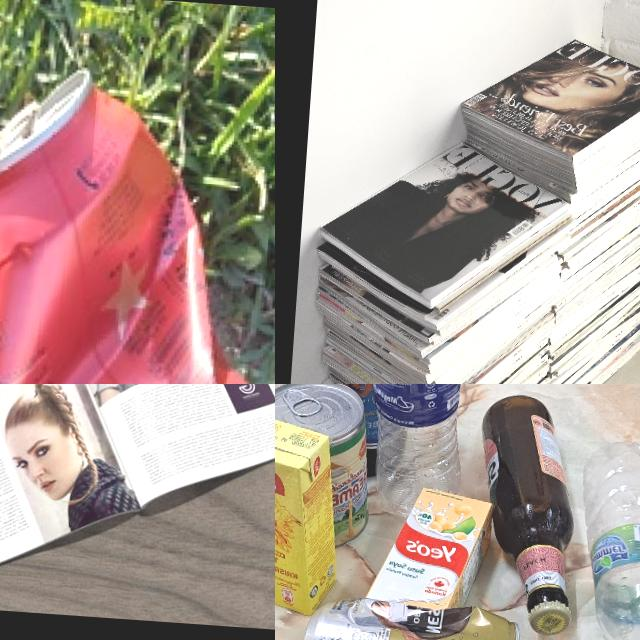aba de lata: (282, 386, 322, 416)
caixinha: (365, 483, 494, 612), (275, 410, 345, 617)
garrafa de vidro: (468, 394, 584, 637), (285, 384, 422, 477)
garrafa plástica: (358, 384, 472, 522), (570, 437, 640, 640)
lata: (0, 56, 275, 384), (275, 384, 375, 550), (297, 593, 523, 640)
papel: (297, 17, 640, 384), (0, 384, 275, 613)
